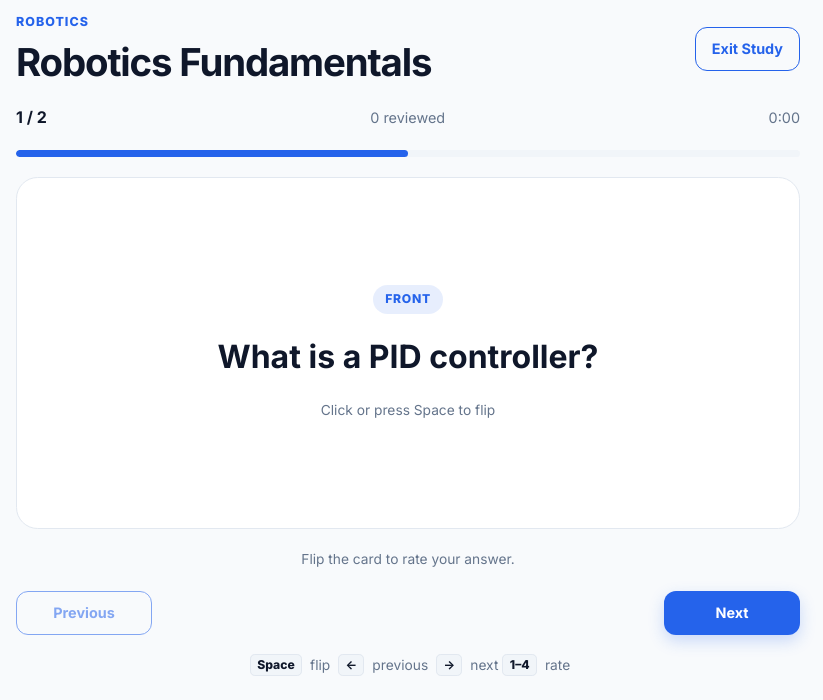
Test case: shows reviewed cards, elapsed time, and completion when the deck ends
What coordinates should you click on to do the following:
click the button with aria-label "Card front"
I would click on:
 (63, 353)
Its box is left=16, top=177, right=800, bottom=529.
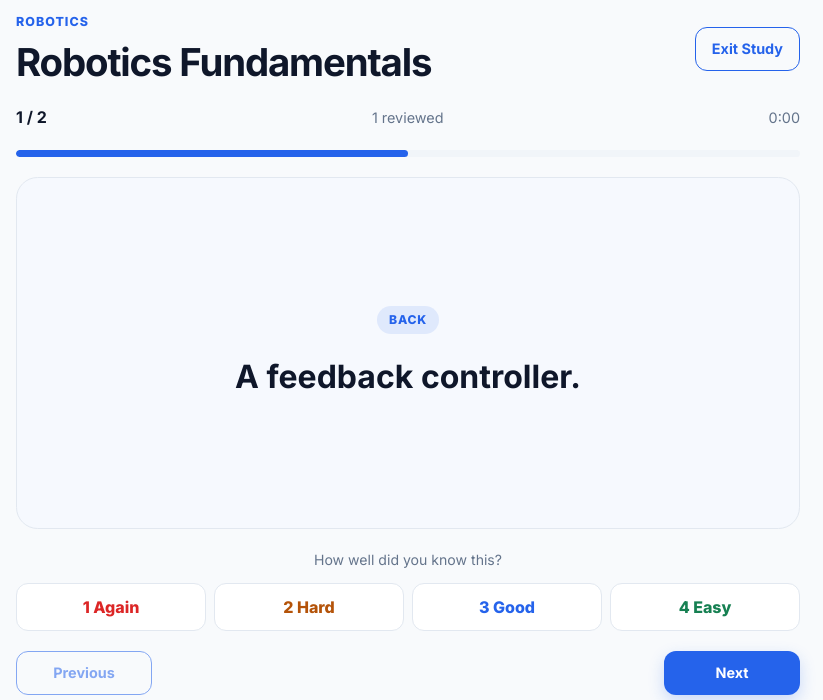
What coordinates should you click on to do the following:
click the button "Next"
I would click on:
 (732, 673)
Its box is left=664, top=651, right=800, bottom=695.
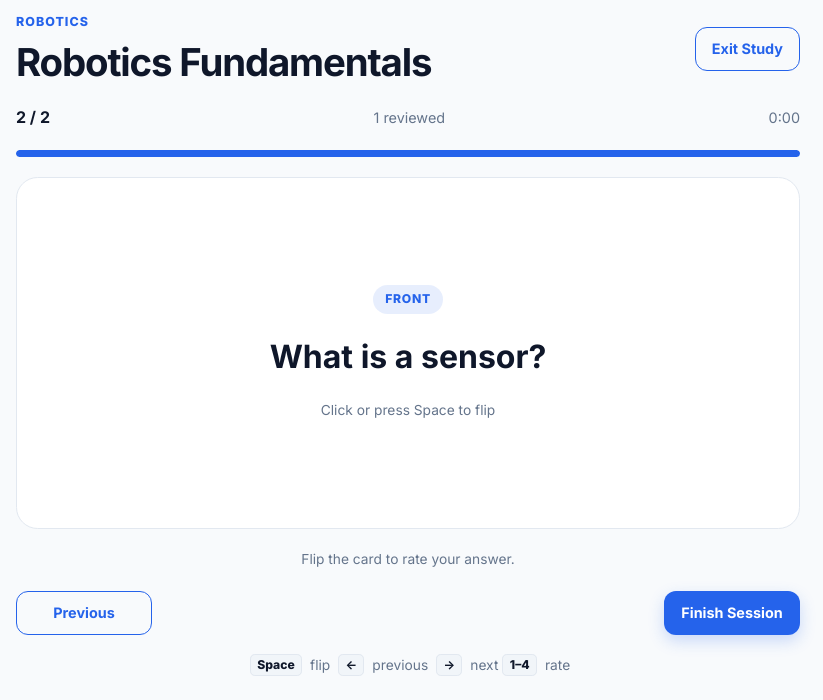
What coordinates should you click on to do the following:
click the button with aria-label "Card front"
I would click on:
 (63, 353)
Its box is left=16, top=177, right=800, bottom=529.
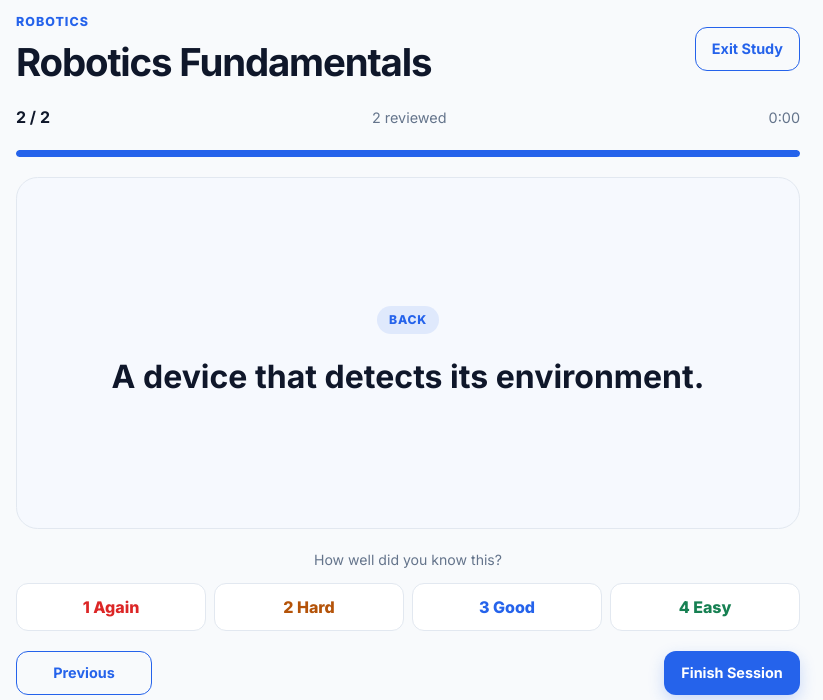
What coordinates should you click on to do the following:
click the button "Finish Session"
I would click on:
 (732, 673)
Its box is left=664, top=651, right=800, bottom=695.
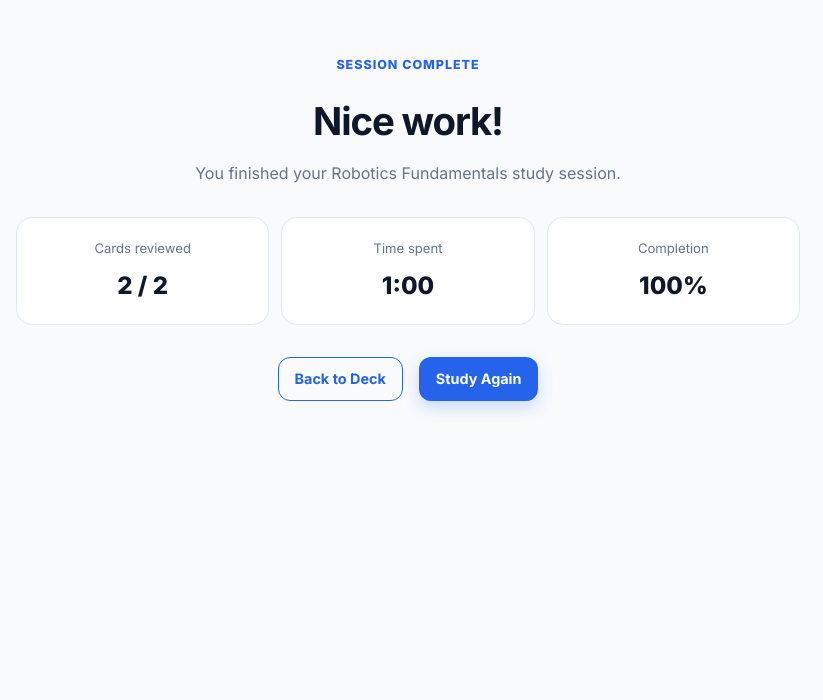
Expected: the text "2 / 2" is shown, left=117, top=271, right=168, bottom=300
Expected: the heading "Nice work!" is shown, left=313, top=98, right=503, bottom=145
Expected: the text "1:00" is shown, left=382, top=271, right=434, bottom=300
